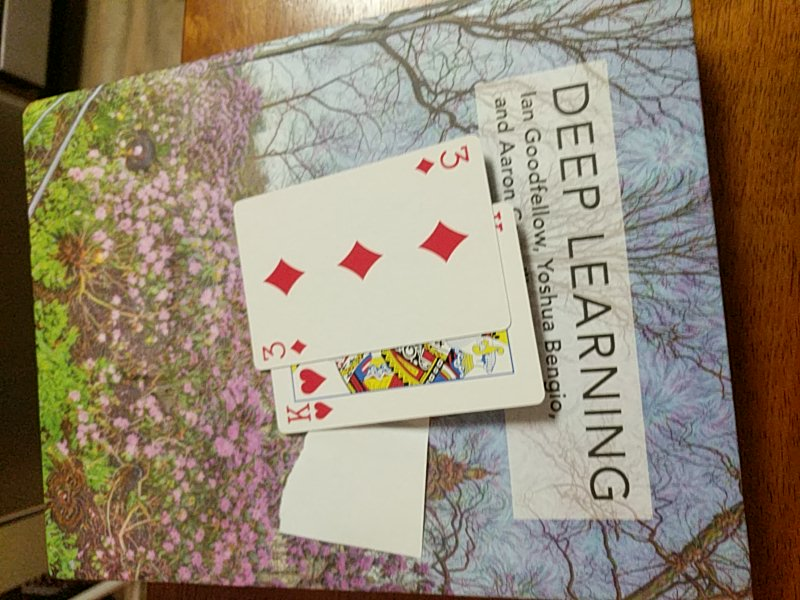Diamonds: (229, 136, 513, 372)
Hearts: (270, 359, 546, 434)
